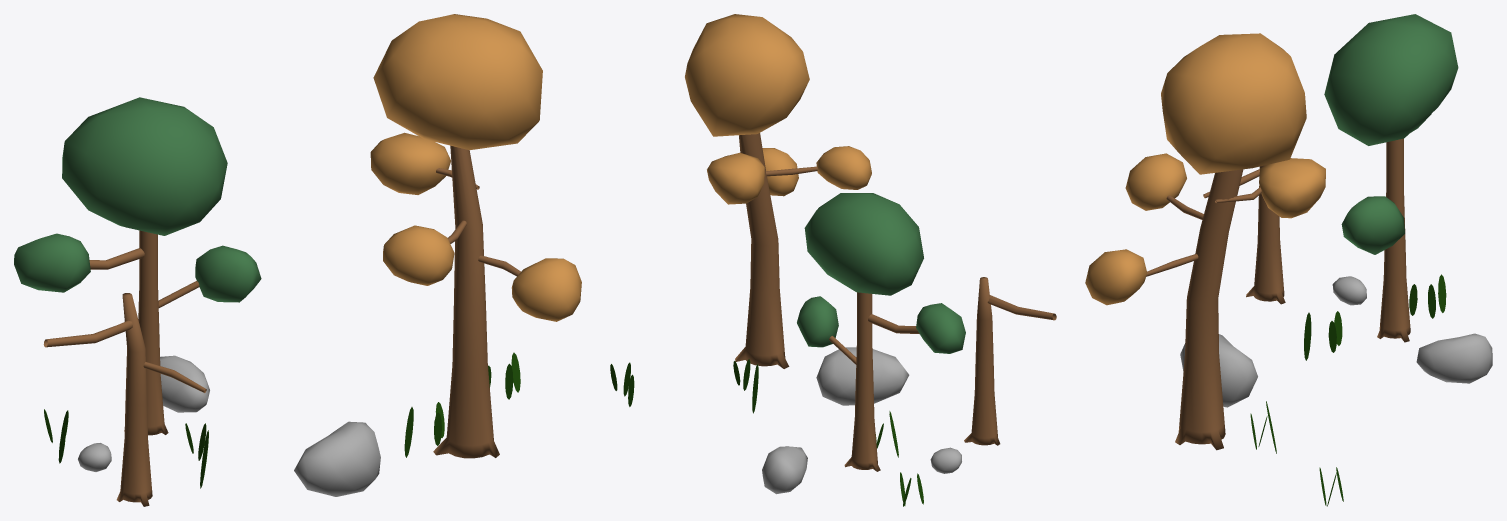
File: ConjuntoDeArboles.fbx
3 renders of one model, left to right at view 1: azimuth 30°, elevation 25°; view 2: azimuth 150°, elevation 25°; view 3: azimuth 270°, elevation 25°, orthographic. The views are drawn at different scales.
Visible parts, largest first — view 1: Arbol, Rocas, Cesped; view 2: Arbol, Rocas, Cesped; view 3: Arbol, Rocas, Cesped.
Boxes of the visible parts, x1,y1,x2,y2 form: Arbol: (14, 14, 581, 506); Rocas: (78, 355, 380, 496); Cesped: (44, 352, 520, 488); Arbol: (685, 14, 1056, 471); Rocas: (762, 347, 961, 494); Cesped: (610, 359, 923, 506); Arbol: (1085, 14, 1458, 450); Rocas: (1180, 276, 1492, 407); Cesped: (1250, 274, 1446, 506).
Bounding box in the file's own units: 3553 × 2993 × 2597.
